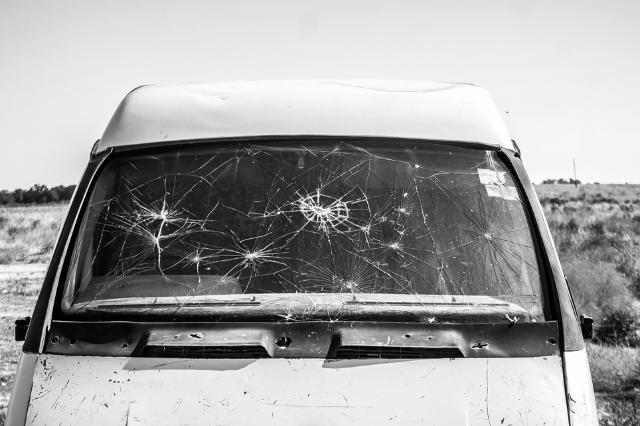Windshield: (66, 147, 535, 323)
